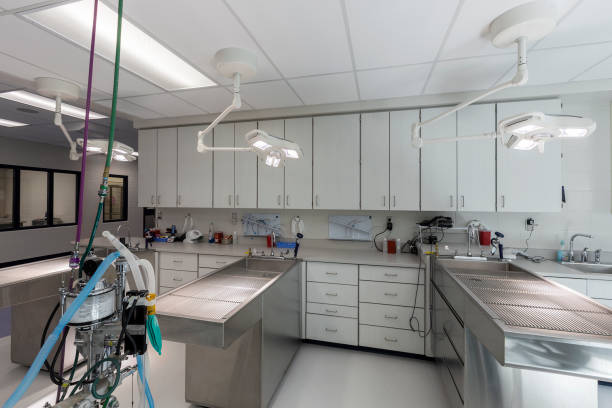breathing_tube: (80, 225, 162, 304)
cabinet: (137, 128, 564, 212)
countertop: (161, 237, 574, 275)
faucet: (569, 234, 602, 264)
handle: (383, 335, 398, 343), (383, 314, 398, 320), (170, 259, 185, 265), (324, 291, 338, 297), (324, 326, 338, 332), (383, 273, 398, 278), (383, 292, 398, 297), (325, 271, 338, 276), (325, 308, 338, 313), (215, 260, 227, 265), (172, 277, 183, 282), (449, 196, 453, 208), (277, 194, 281, 206), (236, 194, 240, 206), (286, 195, 290, 206), (315, 195, 319, 206), (501, 195, 504, 208), (461, 195, 464, 207), (393, 196, 396, 208), (383, 195, 386, 207), (228, 195, 231, 206), (178, 195, 181, 205)
operating_bed: (430, 254, 612, 408), (146, 255, 303, 408), (1, 255, 84, 374)
sink: (563, 263, 612, 277)
surgical_light: (496, 112, 597, 154), (245, 130, 305, 168), (76, 138, 139, 162)
